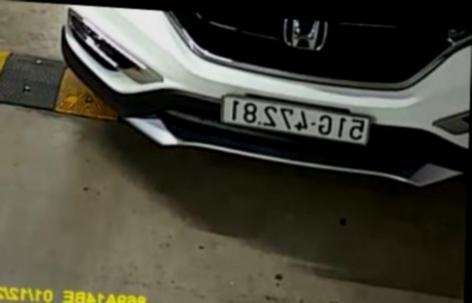License_Plate: (219, 96, 374, 147)
